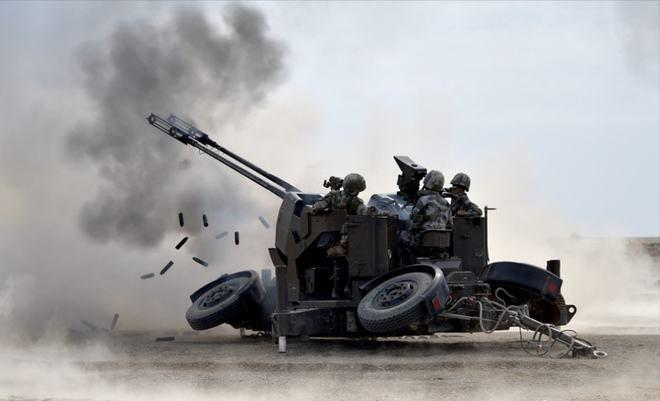MIL_SPG: (147, 115, 606, 356)
